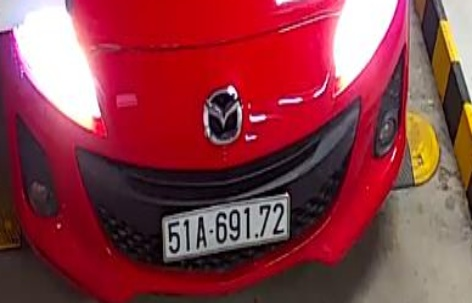plate: (156, 201, 296, 265)
